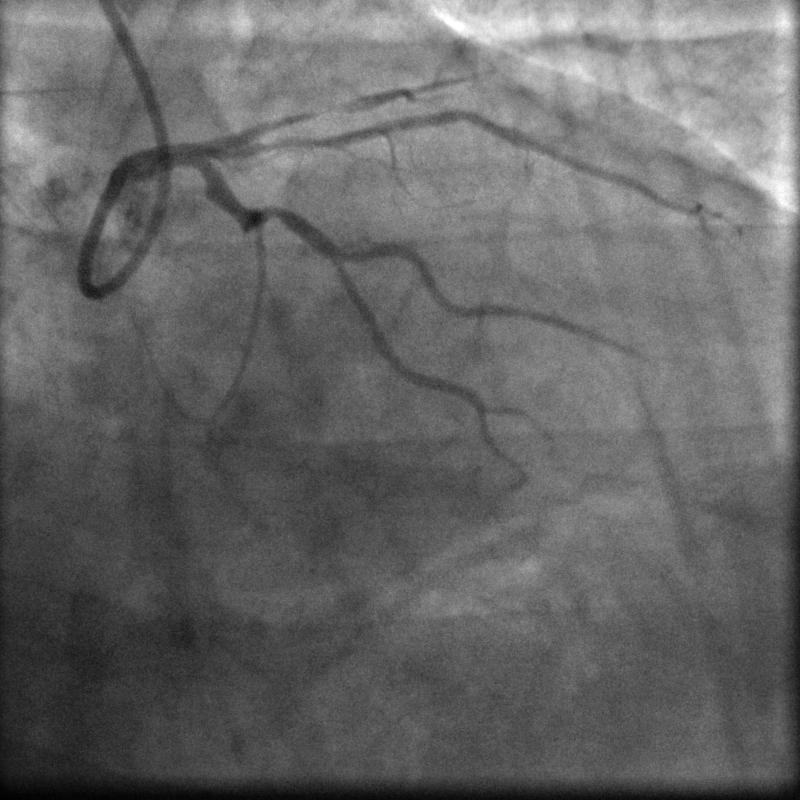Stenosis: (256, 198, 284, 229)
